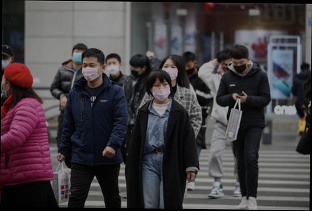with_mask: (150, 80, 171, 102), (81, 60, 102, 81), (160, 62, 179, 82), (230, 58, 248, 75), (104, 60, 120, 75), (72, 48, 86, 65), (0, 55, 12, 72), (183, 62, 196, 75), (130, 65, 142, 77)
